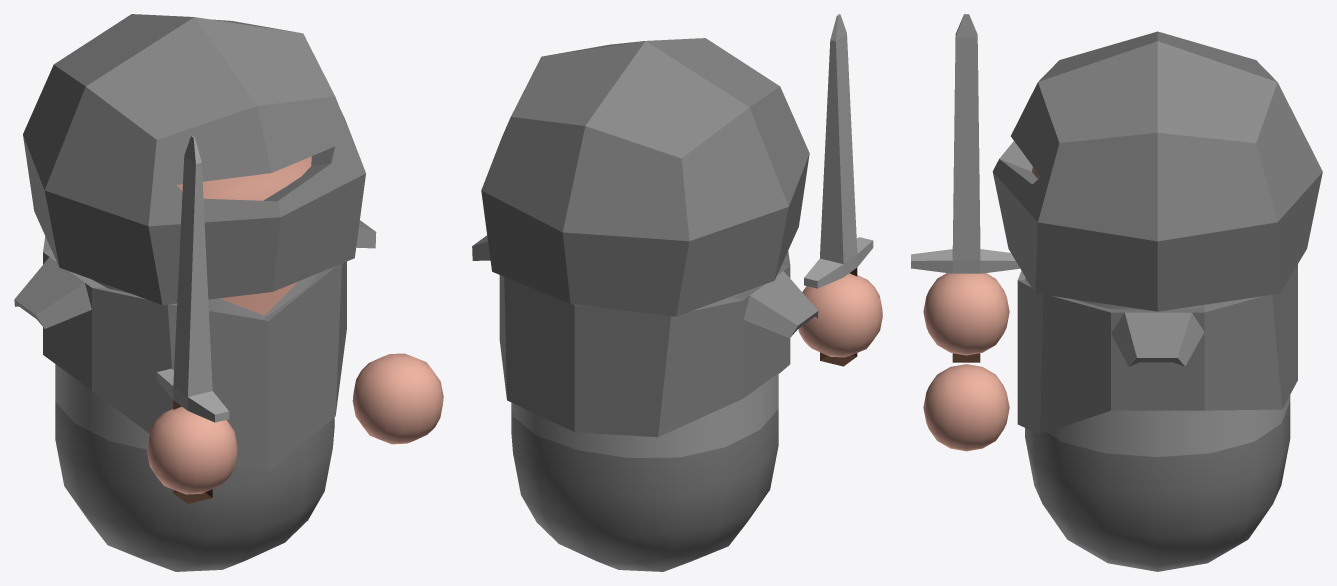
The model's file is bob_night.glb.
3 views of the same model, side by side, from view 1: azimuth 30°, elevation 25°; view 2: azimuth 150°, elevation 25°; view 3: azimuth 270°, elevation 25° (orthographic). The views are drawn at different scales.
Visible parts, largest first — view 1: Cube.003, Cube.002, Cube, Cube.001, Plane; view 2: Cube.003, Cube.002, Cube, Plane, Cube.001; view 3: Cube.003, Cube, Cube.002, Cube.001, Plane.
Part boxes in pixels (x1=…): Cube.003: x1=23, y1=14, x2=365, y2=304; Cube.002: x1=14, y1=220, x2=376, y2=471; Cube: x1=55, y1=156, x2=334, y2=571; Cube.001: x1=147, y1=353, x2=443, y2=494; Plane: x1=157, y1=135, x2=229, y2=503; Cube.003: x1=481, y1=38, x2=809, y2=316; Cube.002: x1=472, y1=235, x2=818, y2=437; Cube: x1=511, y1=292, x2=778, y2=571; Plane: x1=804, y1=14, x2=873, y2=366; Cube.001: x1=798, y1=273, x2=882, y2=357; Cube.003: x1=992, y1=31, x2=1322, y2=311; Cube: x1=1025, y1=167, x2=1290, y2=571; Cube.002: x1=1017, y1=264, x2=1297, y2=434; Cube.001: x1=923, y1=273, x2=1009, y2=451; Plane: x1=911, y1=14, x2=1019, y2=362.
Bounding box in the file's own units: 2.37 × 3.61 × 2.61.
